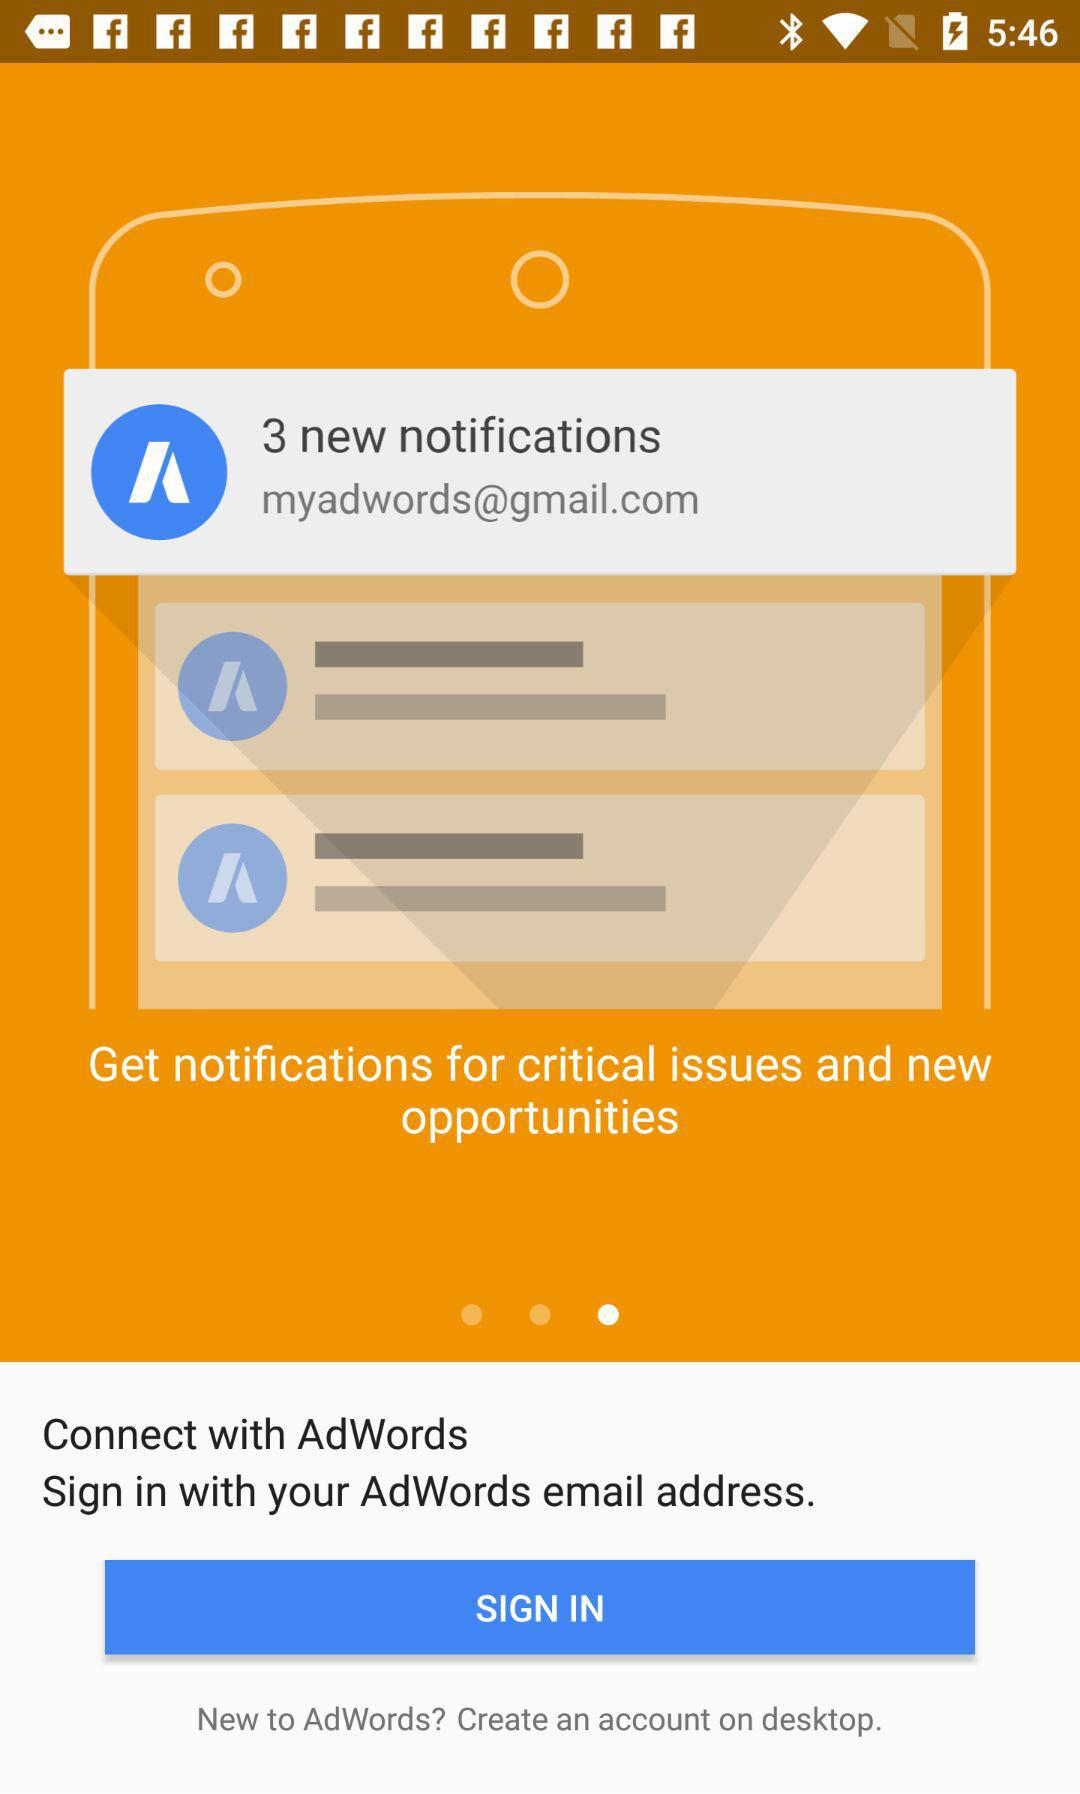Image: (63, 192, 1017, 1006)
PageIndicator: (460, 1303, 623, 1328)
Text: (90, 1043, 994, 1146), (44, 1416, 816, 1516), (199, 1704, 881, 1738)
TextButton: (105, 1559, 976, 1656)
UpperTaskBar: (1, 1, 1080, 64)
